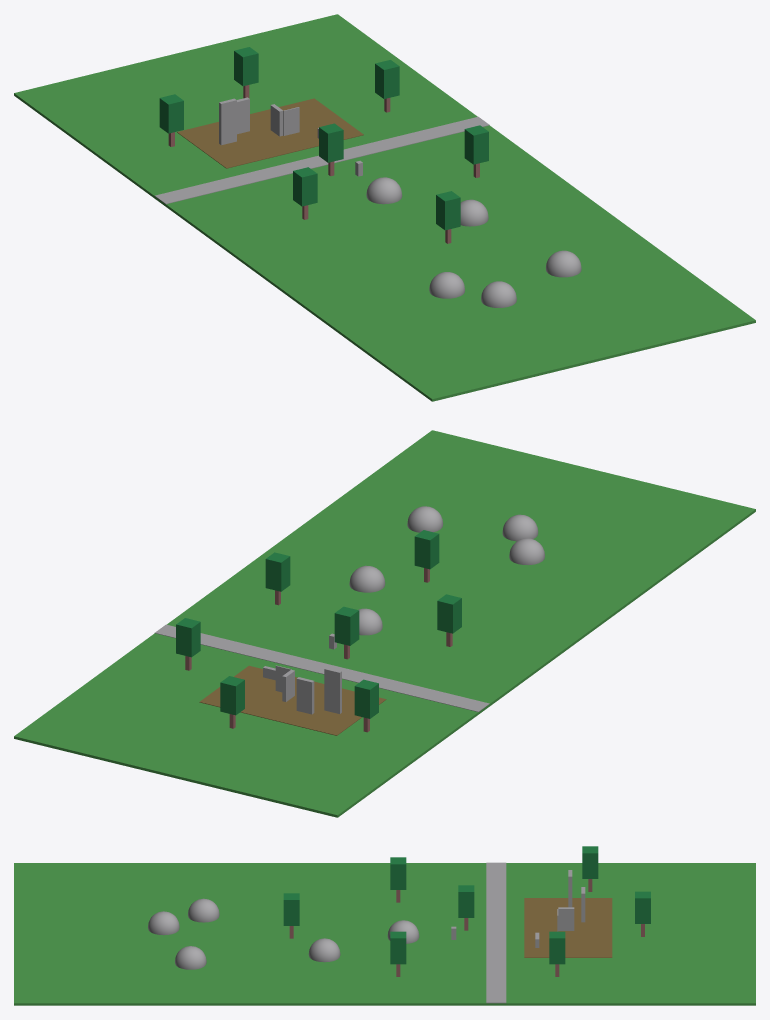
Rendered from demoMap1.dae.
3 renders of one model, top to bottom at view 1: azimuth 30°, elevation 25°; view 2: azimuth 150°, elevation 25°; view 3: azimuth 270°, elevation 25°, orthographic. The views are drawn at different scales.
Visible parts, largest first — view 1: Part28, Part11, Part26, Part22, Part14, Part12, Part24, Part20, Part16, Part18, Part3, Part5 (+4 smaller); view 2: Part28, Part11, Part26, Part24, Part20, Part12, Part22, Part14, Part16, Part18, Part1, Part4 (+4 smaller); view 3: Part28, Part11, Part26, Part4, Part1, Part3, Part2, Part20, Part18, Part24, Part22, Part14 (+4 smaller).
Boxes of the visible parts, x1,y1,x2,y2 form: Part28: (14, 14, 755, 401); Part11: (177, 98, 363, 168); Part26: (155, 116, 489, 204); Part22: (293, 167, 317, 206); Part14: (159, 94, 183, 133); Part12: (436, 191, 460, 230); Part24: (319, 123, 343, 162); Part20: (464, 125, 488, 164); Part16: (234, 47, 258, 86); Part18: (375, 60, 399, 98); Part3: (545, 250, 581, 277); Part5: (366, 177, 402, 204); Part28: (14, 430, 755, 817); Part11: (199, 665, 386, 735); Part26: (155, 624, 489, 712); Part24: (334, 606, 359, 645); Part20: (265, 552, 290, 591); Part12: (414, 530, 439, 569); Part22: (437, 594, 461, 633); Part14: (354, 679, 378, 718); Part16: (220, 676, 244, 715); Part18: (176, 618, 200, 657); Part1: (509, 538, 544, 565); Part4: (349, 565, 385, 592); Part28: (14, 863, 755, 1005); Part11: (524, 898, 612, 957); Part26: (486, 862, 506, 1003); Part4: (308, 938, 340, 962); Part1: (187, 898, 219, 922); Part3: (175, 946, 206, 969); Part2: (148, 911, 179, 935); Part20: (390, 931, 406, 964); Part18: (549, 931, 565, 964); Part24: (458, 885, 474, 917); Part22: (390, 857, 406, 889); Part14: (582, 846, 598, 878).
Size of the model in its own units: 133 by 297 by 24.
